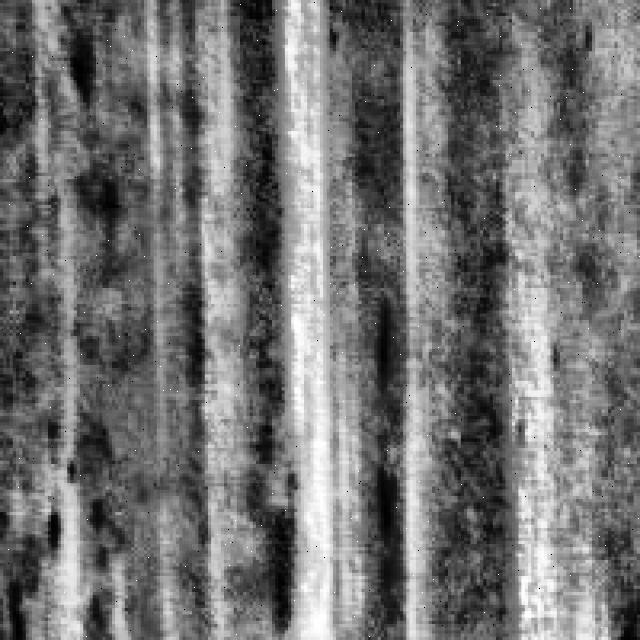Inclusion: (275, 0, 346, 634), (179, 109, 259, 550), (509, 307, 573, 634)
Patches: (371, 301, 416, 384), (374, 458, 412, 548)
